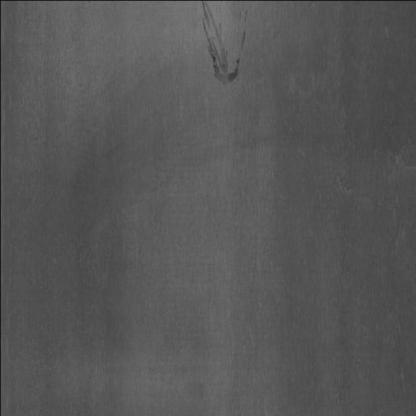water_spot: (193, 2, 259, 94)
